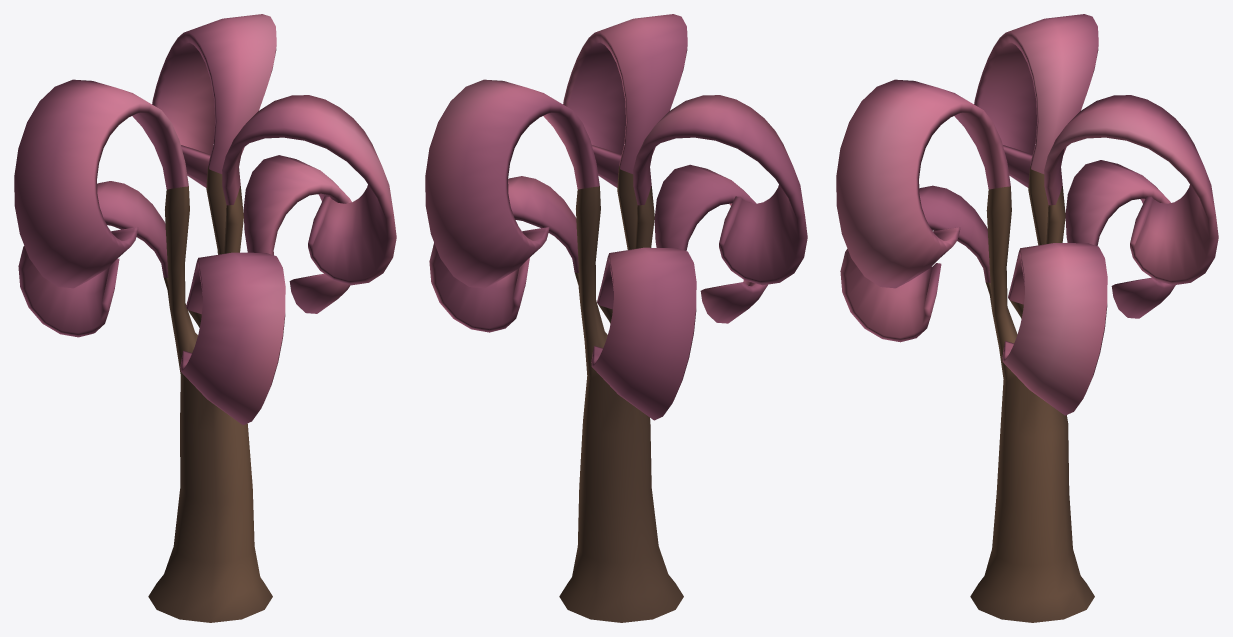
File: Ribbon_Tree_Remake.glb
3 renders of one model, left to right at view 1: azimuth 30°, elevation 25°; view 2: azimuth 150°, elevation 25°; view 3: azimuth 270°, elevation 25°, orthographic.
Visible parts, largest first — view 1: Ribbon_Tree_Remake; view 2: Ribbon_Tree_Remake; view 3: Ribbon_Tree_Remake.
Part boxes in pixels (<box>): Ribbon_Tree_Remake: <box>14,14,396,622</box>; Ribbon_Tree_Remake: <box>425,14,807,622</box>; Ribbon_Tree_Remake: <box>836,14,1218,622</box>.
Bounding box in the file's own units: 4.17 × 5.95 × 3.95.
